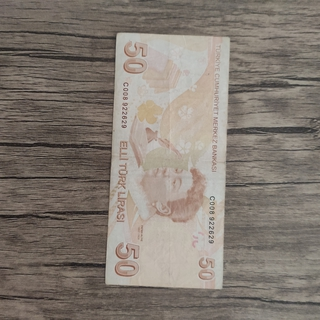50TLBack: (104, 31, 231, 289)
